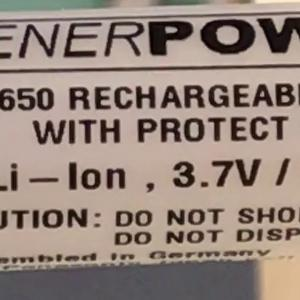3.7V: (163, 149, 268, 198)
